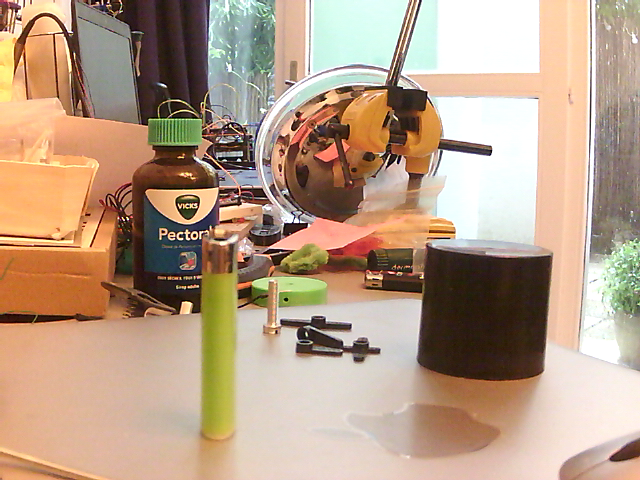bolt: (262, 280, 281, 335)
lighter: (202, 232, 239, 444), (362, 269, 425, 293)
